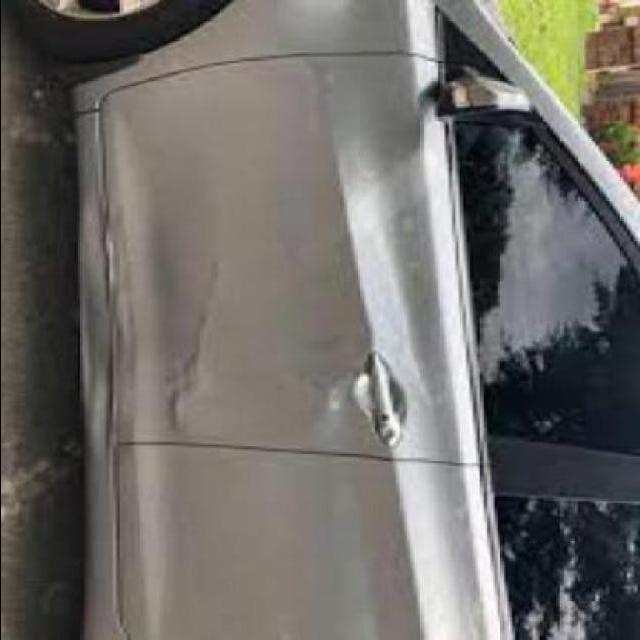RunningBoard-Dent: (69, 106, 118, 448)
doorouter-dent: (119, 65, 458, 449)
